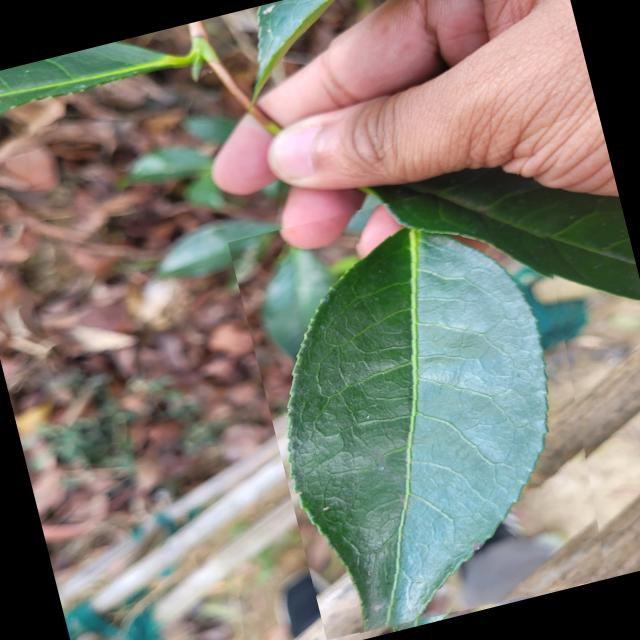Category D(7+ days, Not for Tea): (227, 166, 634, 640)
